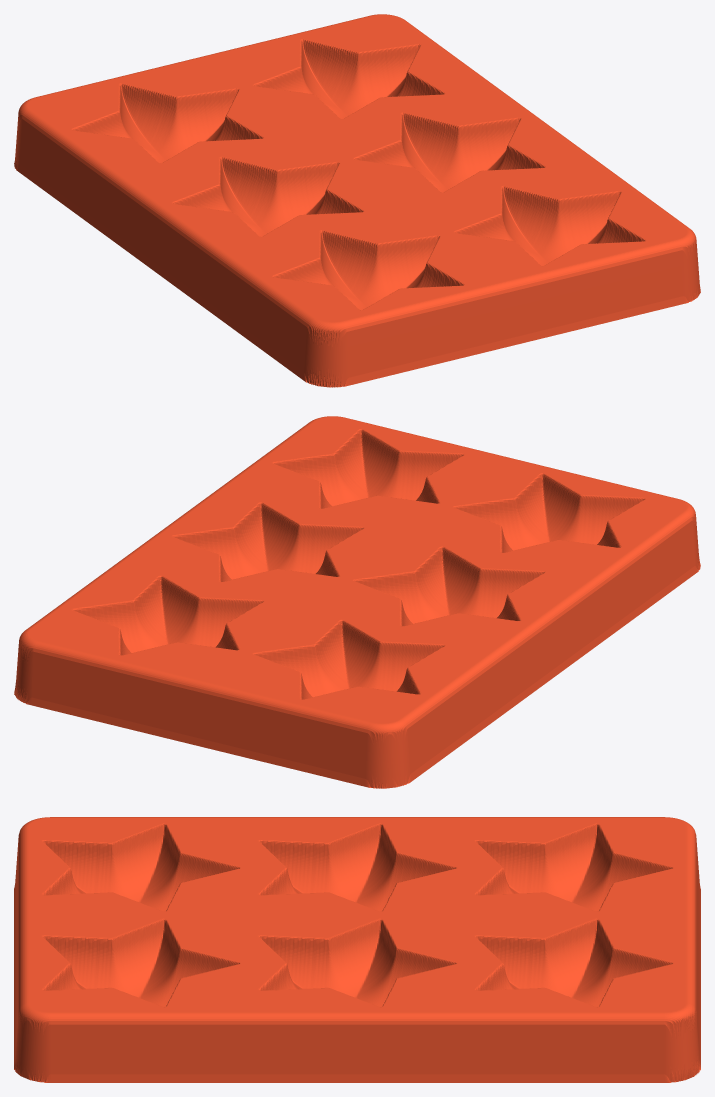
File: mold.glb
3 renders of one model, top to bottom at view 1: azimuth 30°, elevation 25°; view 2: azimuth 150°, elevation 25°; view 3: azimuth 270°, elevation 25°, orthographic. The views are drawn at different scales.
Visible parts, largest first — view 1: geometry_0; view 2: geometry_0; view 3: geometry_0.
Part boxes in pixels (x1,y1,x2,y2): geometry_0: (14,14,700,387); geometry_0: (14,416,700,788); geometry_0: (14,817,700,1082).
Size of the model in its own units: 0.1211 by 0.0175 by 0.17.
